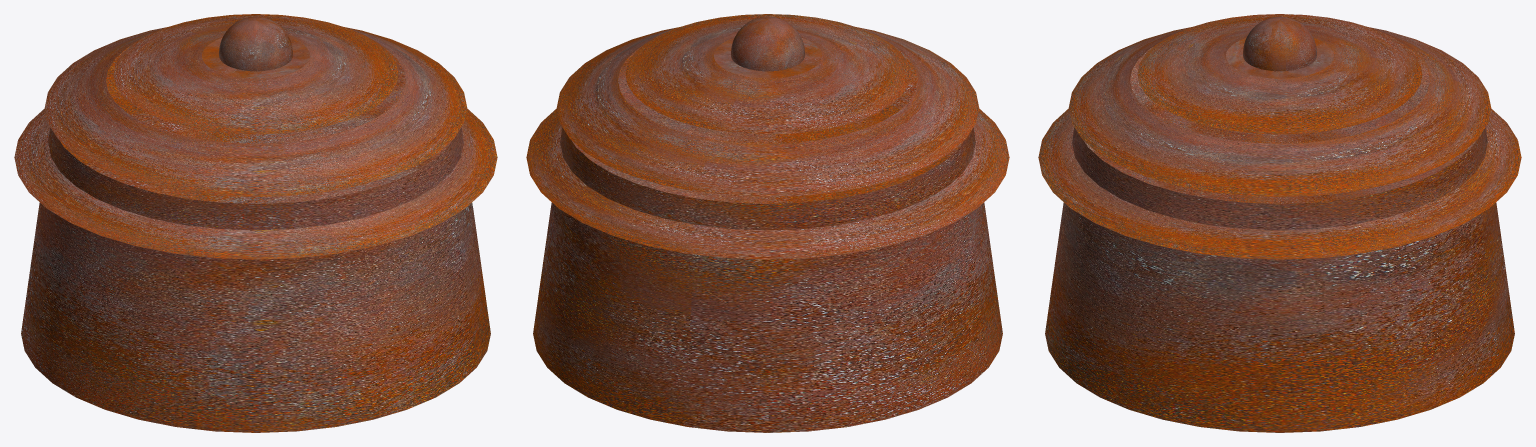
The model's file is tower-2.gltf.
The picture shows the model from 3 angles, left to right: view 1: azimuth 30°, elevation 25°; view 2: azimuth 150°, elevation 25°; view 3: azimuth 270°, elevation 25°; orthographic projection.
Size of the model in its own units: 24.53 by 17.57 by 24.53.
6 materials, 6 textured.
